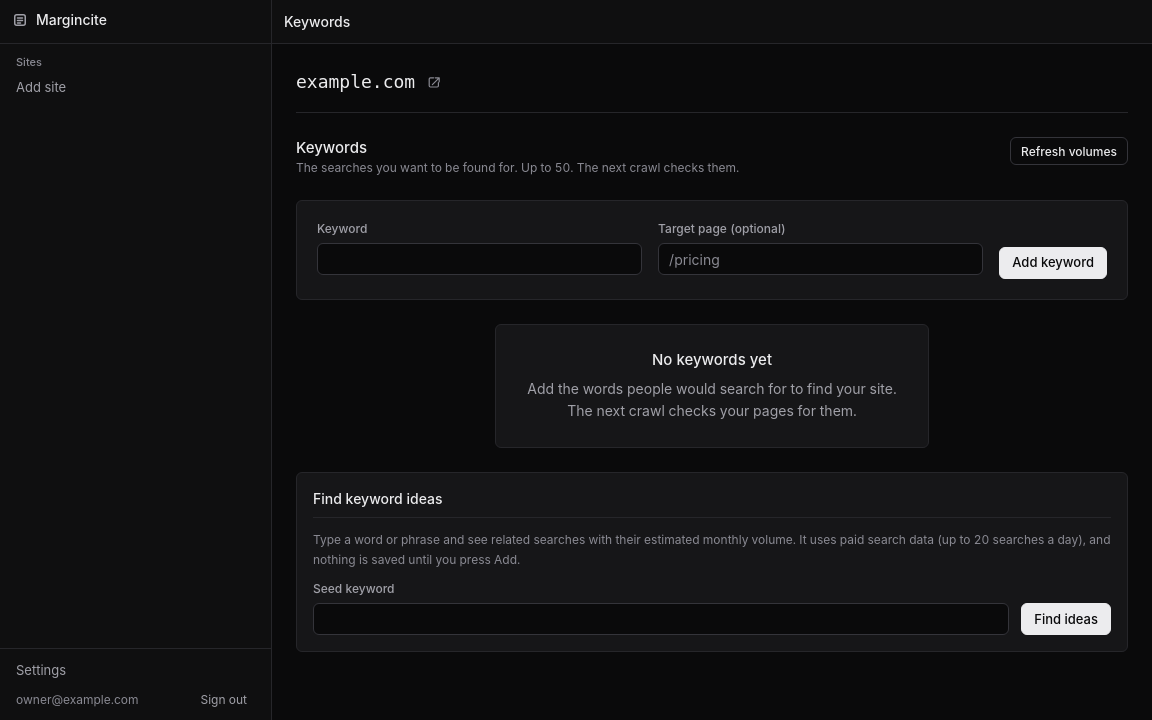
Test case: an empty keyword is refused without asking the server
The width and height of the screenshot is (1152, 720).
Click the button "Add keyword" at (1053, 263), box [999,247,1107,279]
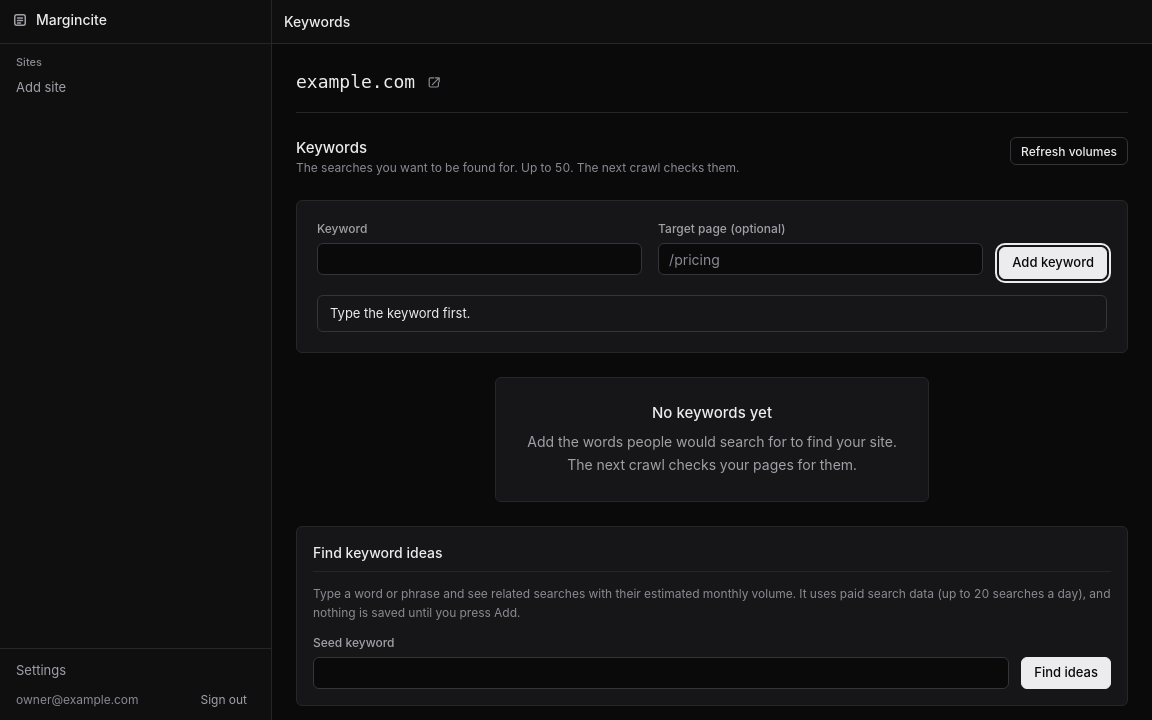
Now the text "Type the keyword first." is shown, box [317,295,1107,332]
